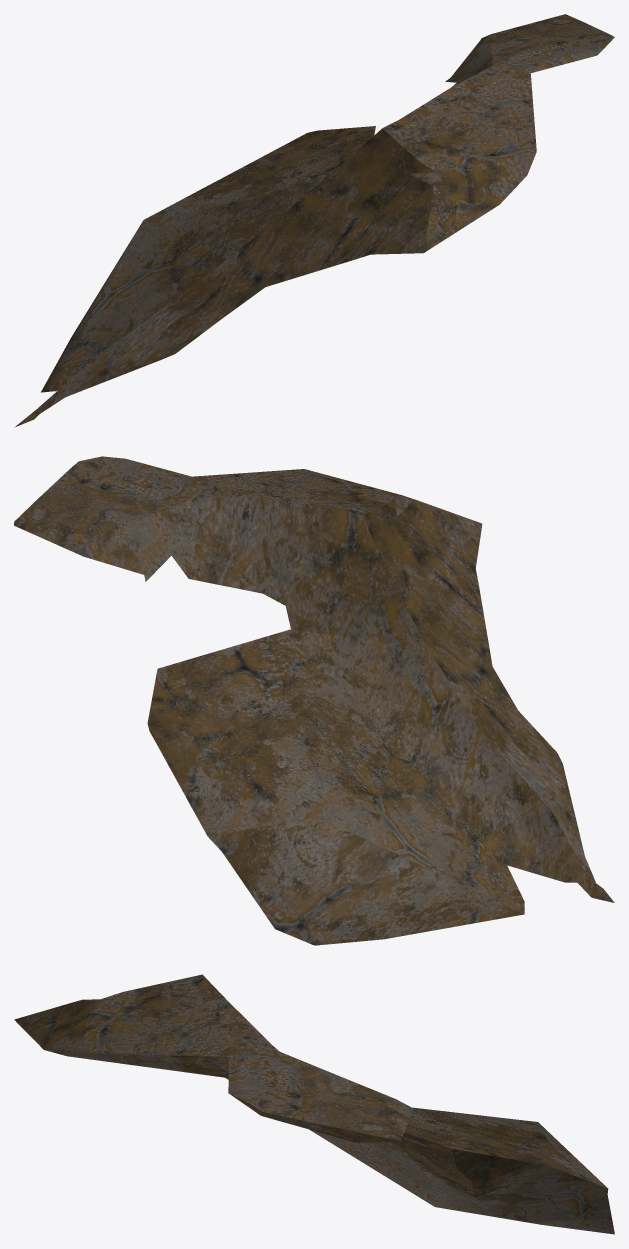
The model's file is RockShard17.fbx.
The picture shows the model from 3 angles, top to bottom: view 1: azimuth 30°, elevation 25°; view 2: azimuth 150°, elevation 25°; view 3: azimuth 270°, elevation 25°; orthographic projection. The views are drawn at different scales.
Visible parts, largest first — view 1: RockShard17; view 2: RockShard17; view 3: RockShard17.
Part boxes in pixels (x1=…): RockShard17: x1=14, y1=14, x2=614, y2=427; RockShard17: x1=14, y1=456, x2=614, y2=945; RockShard17: x1=14, y1=974, x2=614, y2=1234.
Bounding box in the file's own units: 68.76 × 32.86 × 52.74.
